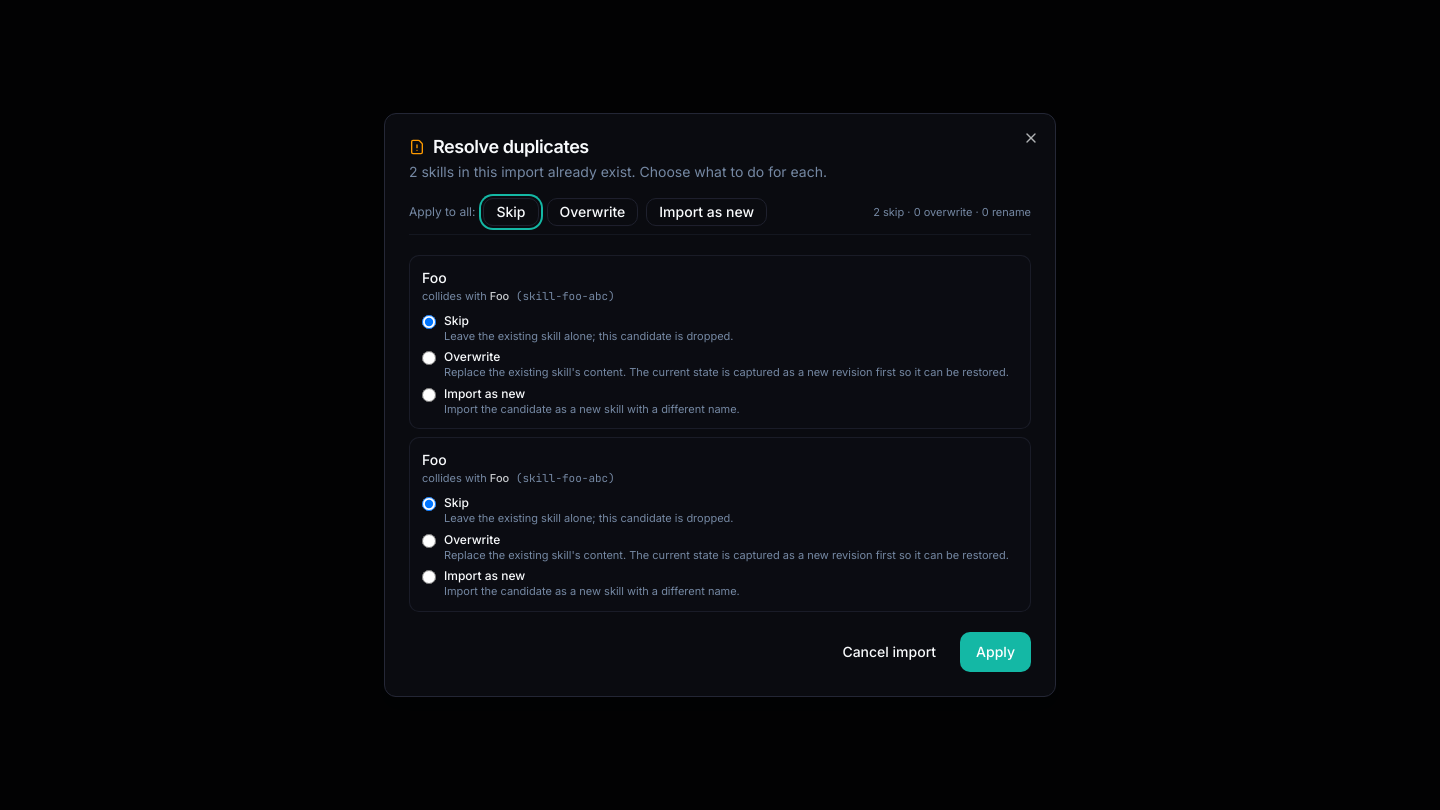
it: ImportConflictDialog — per-row mutation › toggling overwrite on one row leaves the other rows alone
Click the radio button with test id "import-conflict-a-overwrite".
click(429, 358)  # box 422,351 -> 436,365
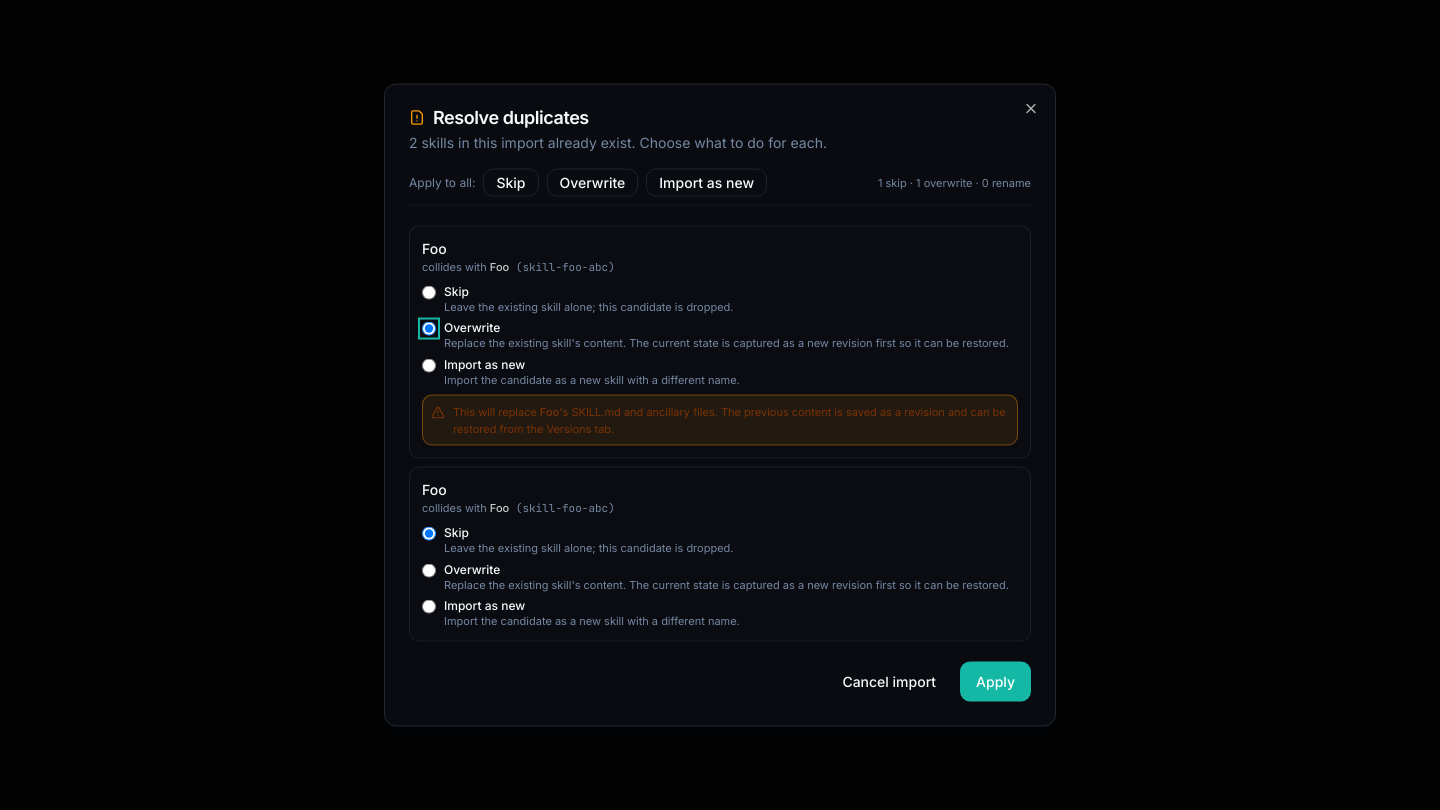
Expected: the radio button with test id "import-conflict-b-skip" is checked, 422,526 -> 436,540
Expected: the radio button with test id "import-conflict-a-overwrite" is checked, 422,322 -> 436,336
Expected: the text "SKILL.md and ancillary files" is shown, 453,405 -> 1006,436
